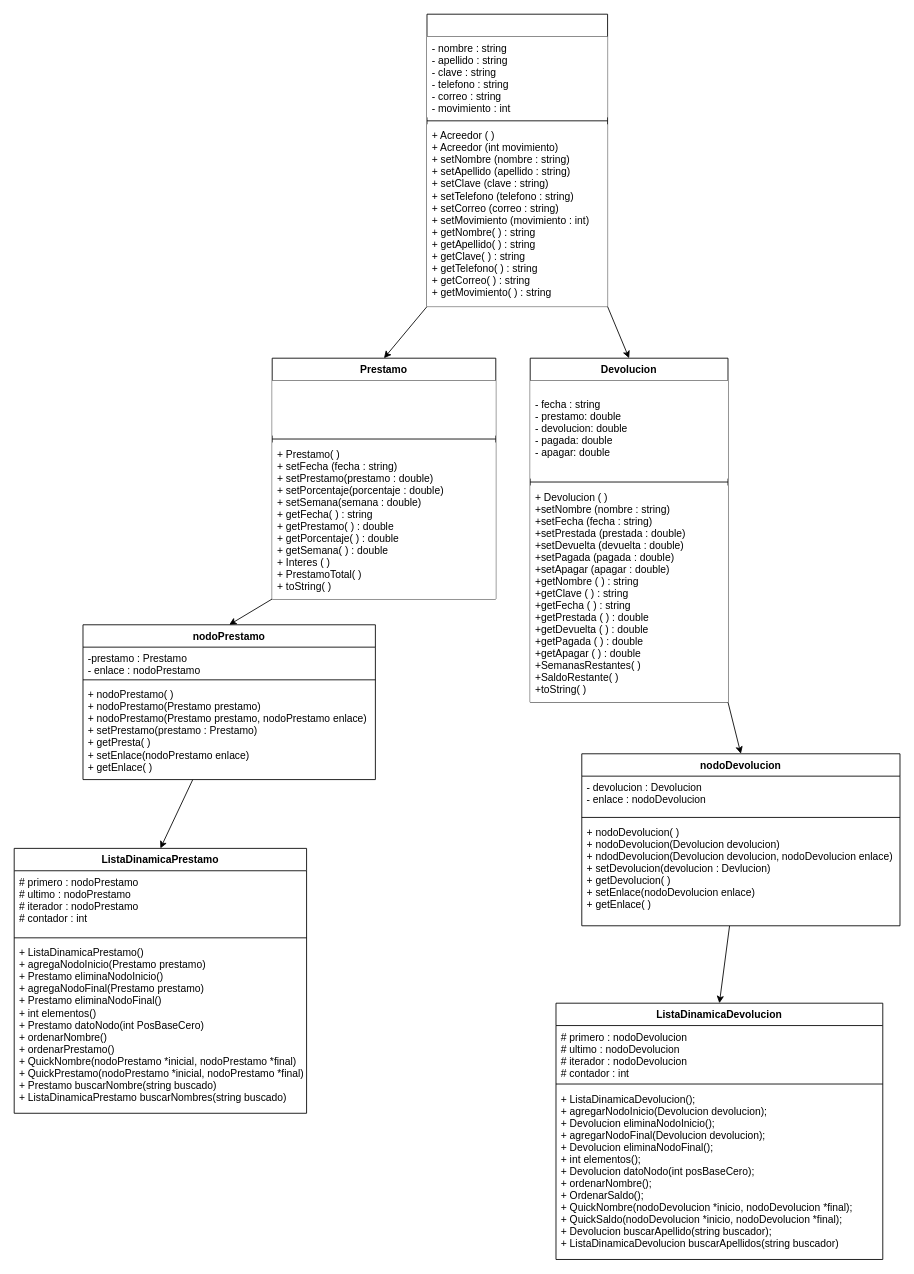
The diagram is 914 pixels wide and 1274 high, and some of its shapes have lost their labels. Here are the shapes that lost their labels. From the top down, the box of each, then its label:
(426, 13, 608, 307): Acreedor.h
(272, 380, 495, 435): - fecha : string - prestamo : double - porcentaje : double - semana : double
